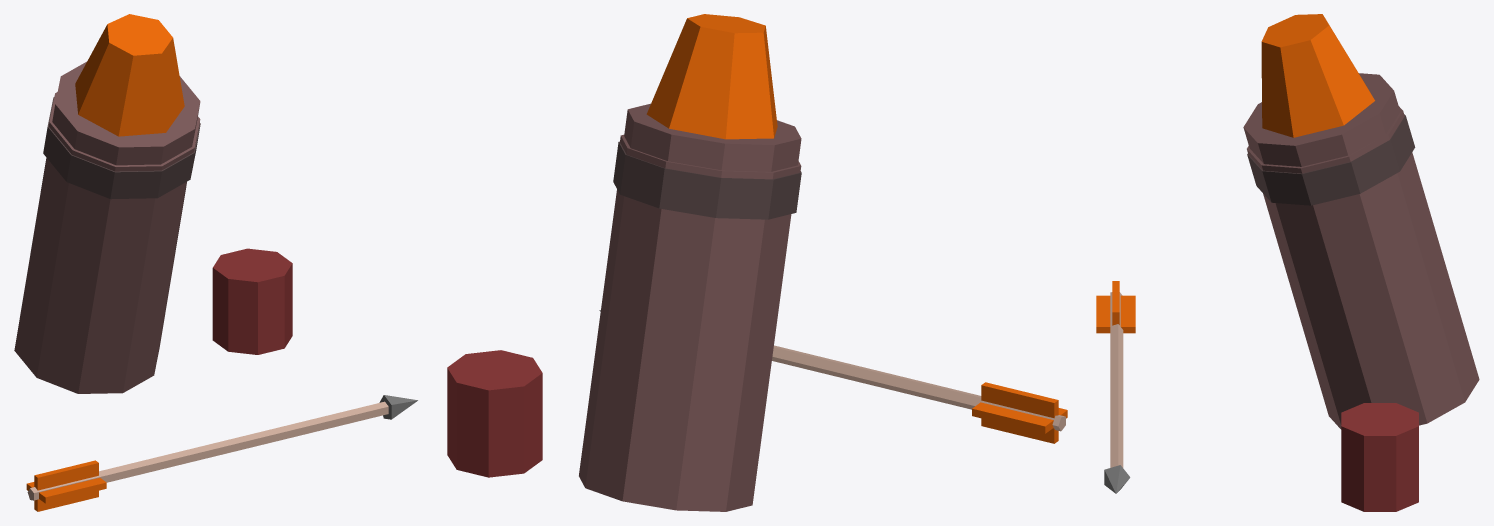
Rendered from ce_ammo2_arrowjar_flame_c.obj.
3 views of the same model, side by side, from view 1: azimuth 30°, elevation 25°; view 2: azimuth 150°, elevation 25°; view 3: azimuth 270°, elevation 25° (orthographic). The views are drawn at different scales.
Parts seen in each view (by area): view 1: ce_ammo2_arrowjar_flame_c_0, ce_ammo2_arrowjar_flame_c_2, ce_ammo2_arrowjar_flame_c_7, ce_ammo2_arrowjar_flame_c_1, ce_ammo2_arrowjar_flame_c_3, ce_ammo2_arrowjar_flame_c_6, ce_ammo2_arrowjar_flame_c_5, ce_ammo2_arrowjar_flame_c_4; view 2: ce_ammo2_arrowjar_flame_c_0, ce_ammo2_arrowjar_flame_c_2, ce_ammo2_arrowjar_flame_c_7, ce_ammo2_arrowjar_flame_c_1, ce_ammo2_arrowjar_flame_c_3, ce_ammo2_arrowjar_flame_c_6, ce_ammo2_arrowjar_flame_c_5; view 3: ce_ammo2_arrowjar_flame_c_0, ce_ammo2_arrowjar_flame_c_2, ce_ammo2_arrowjar_flame_c_7, ce_ammo2_arrowjar_flame_c_1, ce_ammo2_arrowjar_flame_c_3, ce_ammo2_arrowjar_flame_c_5, ce_ammo2_arrowjar_flame_c_4.
Boxes of the visible parts, bbox=[...] form: ce_ammo2_arrowjar_flame_c_0: bbox=[14, 61, 200, 393]; ce_ammo2_arrowjar_flame_c_2: bbox=[75, 14, 184, 136]; ce_ammo2_arrowjar_flame_c_7: bbox=[212, 248, 292, 354]; ce_ammo2_arrowjar_flame_c_1: bbox=[43, 97, 200, 199]; ce_ammo2_arrowjar_flame_c_3: bbox=[27, 401, 388, 500]; ce_ammo2_arrowjar_flame_c_6: bbox=[34, 460, 98, 511]; ce_ammo2_arrowjar_flame_c_5: bbox=[26, 477, 106, 503]; ce_ammo2_arrowjar_flame_c_4: bbox=[379, 395, 417, 419]; ce_ammo2_arrowjar_flame_c_0: bbox=[579, 103, 801, 511]; ce_ammo2_arrowjar_flame_c_2: bbox=[646, 14, 777, 139]; ce_ammo2_arrowjar_flame_c_7: bbox=[447, 350, 542, 477]; ce_ammo2_arrowjar_flame_c_1: bbox=[613, 141, 801, 219]; ce_ammo2_arrowjar_flame_c_3: bbox=[772, 345, 1065, 431]; ce_ammo2_arrowjar_flame_c_6: bbox=[981, 382, 1058, 443]; ce_ammo2_arrowjar_flame_c_5: bbox=[972, 402, 1067, 433]; ce_ammo2_arrowjar_flame_c_0: bbox=[1243, 73, 1479, 429]; ce_ammo2_arrowjar_flame_c_2: bbox=[1261, 14, 1374, 137]; ce_ammo2_arrowjar_flame_c_7: bbox=[1341, 403, 1418, 511]; ce_ammo2_arrowjar_flame_c_1: bbox=[1247, 114, 1415, 205]; ce_ammo2_arrowjar_flame_c_3: bbox=[1110, 292, 1123, 467]; ce_ammo2_arrowjar_flame_c_5: bbox=[1096, 295, 1135, 333]; ce_ammo2_arrowjar_flame_c_4: bbox=[1104, 465, 1130, 493].
Bounding box in the file's own units: 0.779 × 0.7263 × 0.6384.
